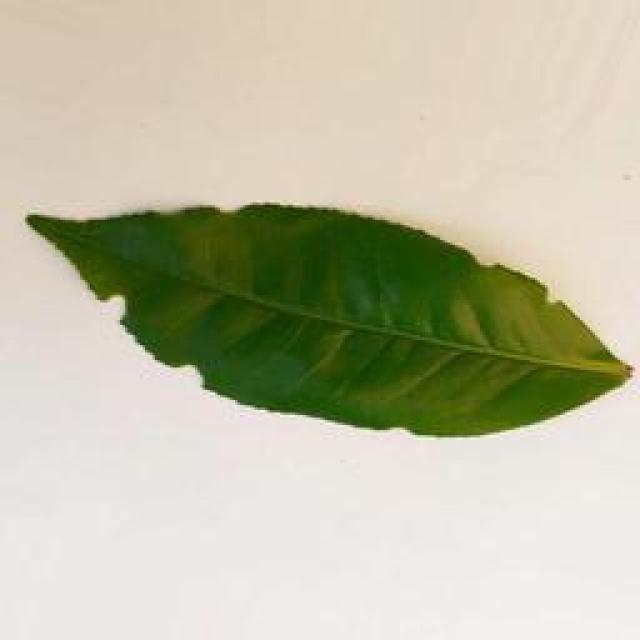Healthy: (25, 201, 640, 432)
